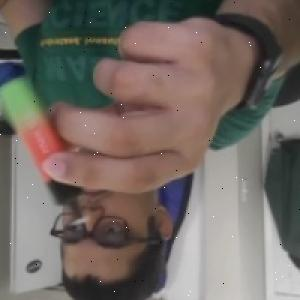Swift-E-Ciggirate: (0, 77, 95, 230)
